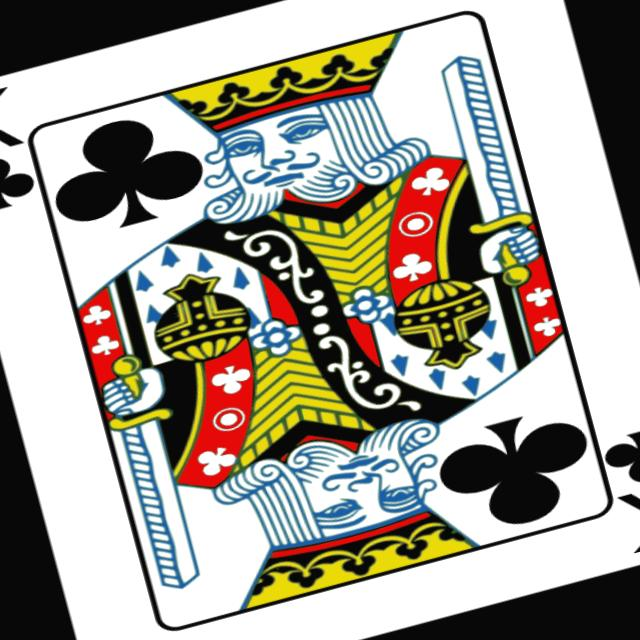Club: (39, 101, 212, 243), (430, 400, 604, 541), (599, 422, 640, 490), (0, 149, 39, 216)
King: (0, 84, 25, 161), (615, 477, 640, 554)
